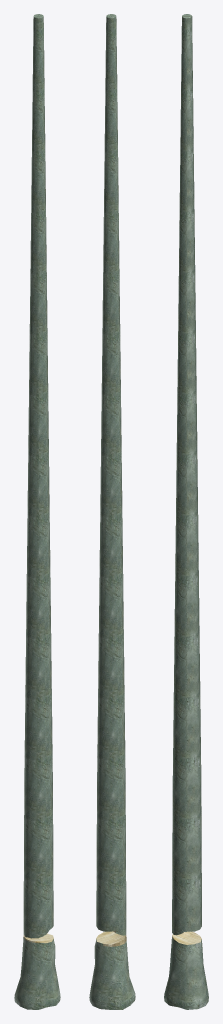
File: Tree-chopped00004.FBX
The picture shows the model from 3 angles, left to right: view 1: azimuth 30°, elevation 25°; view 2: azimuth 210°, elevation 25°; view 3: azimuth 330°, elevation 25°; orthographic projection.
Parts seen in each view (by area): view 1: Tree-chopped004b, Tree-chopped004; view 2: Tree-chopped004b, Tree-chopped004; view 3: Tree-chopped004b, Tree-chopped004.
Part boxes in pixels (left/top/right/bottom): Tree-chopped004b: left=23, top=14, right=53, bottom=938; Tree-chopped004: left=14, top=933, right=60, bottom=1009; Tree-chopped004b: left=96, top=14, right=126, bottom=935; Tree-chopped004: left=89, top=931, right=135, bottom=1009; Tree-chopped004b: left=172, top=14, right=201, bottom=935; Tree-chopped004: left=164, top=931, right=208, bottom=1009.
Bounding box in the file's own units: 23.34 × 568 × 21.76.
